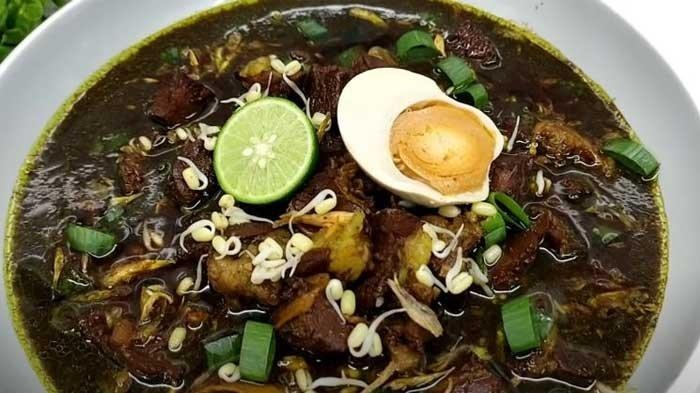rawon: (45, 19, 664, 368)
